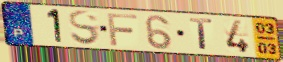1: (44, 8, 65, 46)
4: (224, 19, 251, 55)
6: (144, 13, 175, 51)
F: (106, 12, 140, 48)
S: (67, 9, 102, 47)
T: (188, 17, 215, 52)
